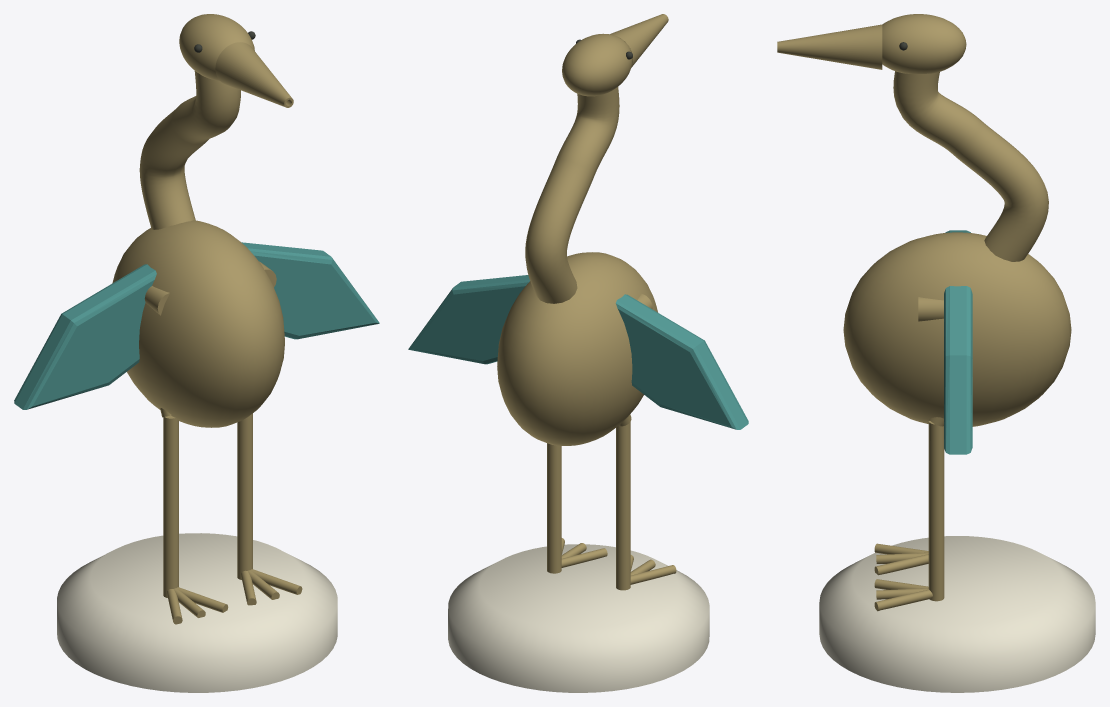
File: water-clock-garden-and-hydraulic-puzzles-bronze-heron--0b310b12__31943.glb
3 renders of one model, left to right at view 1: azimuth 30°, elevation 25°; view 2: azimuth 150°, elevation 25°; view 3: azimuth 270°, elevation 25°, orthographic. The views are drawn at different scales.
Parts seen in each view (by area): view 1: bronze-heron-automaton; view 2: bronze-heron-automaton; view 3: bronze-heron-automaton.
Part boxes in pixels (box(x1,y1,x2,y2)): bronze-heron-automaton: box(14, 14, 379, 692); bronze-heron-automaton: box(408, 14, 748, 692); bronze-heron-automaton: box(777, 14, 1095, 692).
Size of the model in its own units: 1.35 by 2.27 by 1.06.
